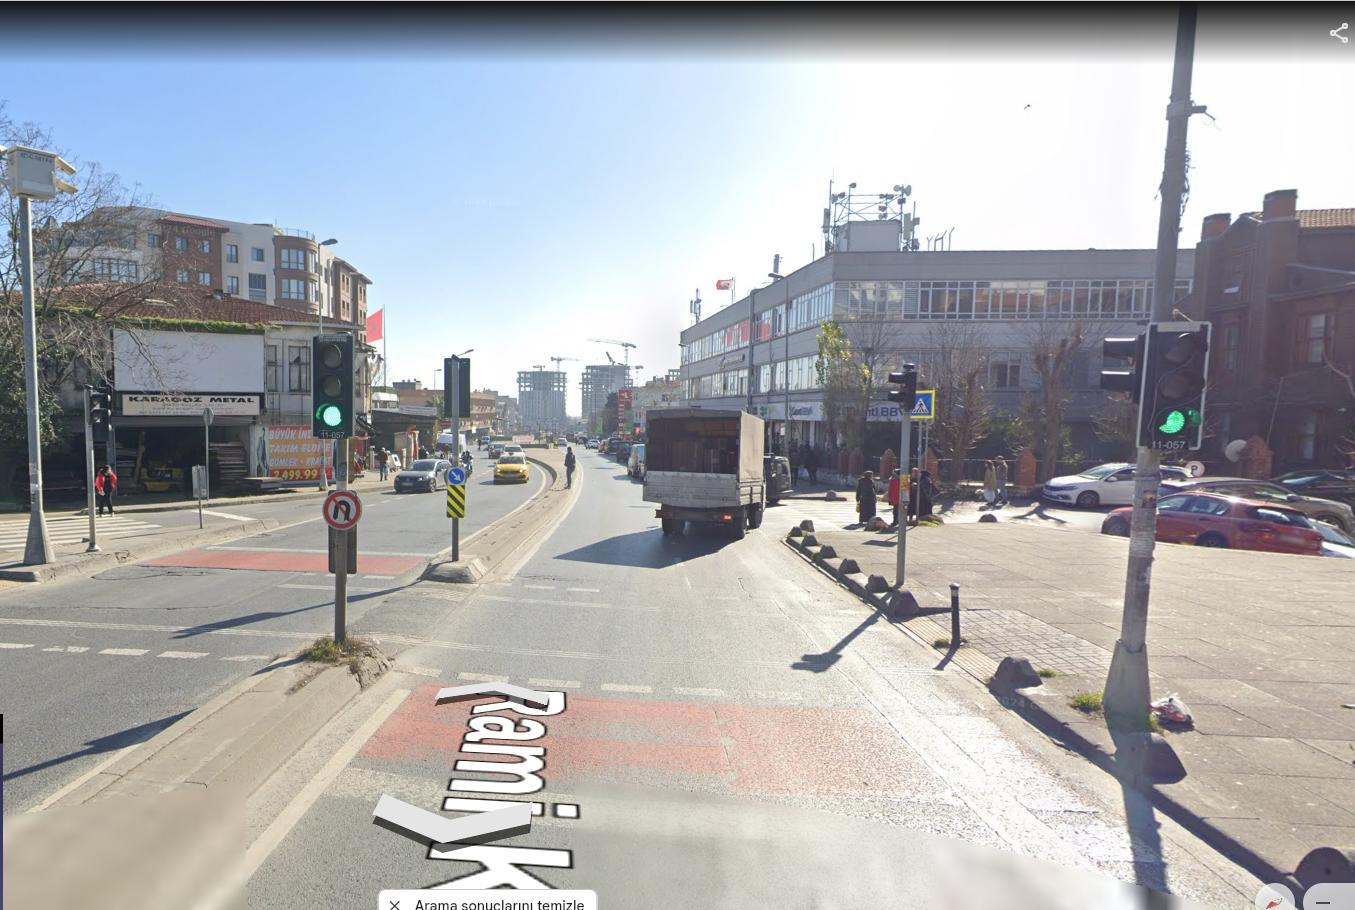greenlight: (1133, 316, 1212, 461), (307, 329, 360, 449)
